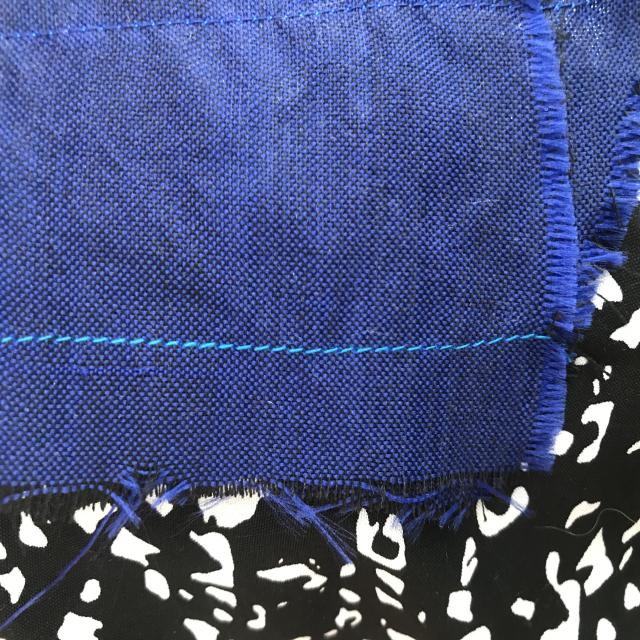good: (53, 329, 143, 355), (185, 333, 262, 363), (300, 342, 390, 364)
